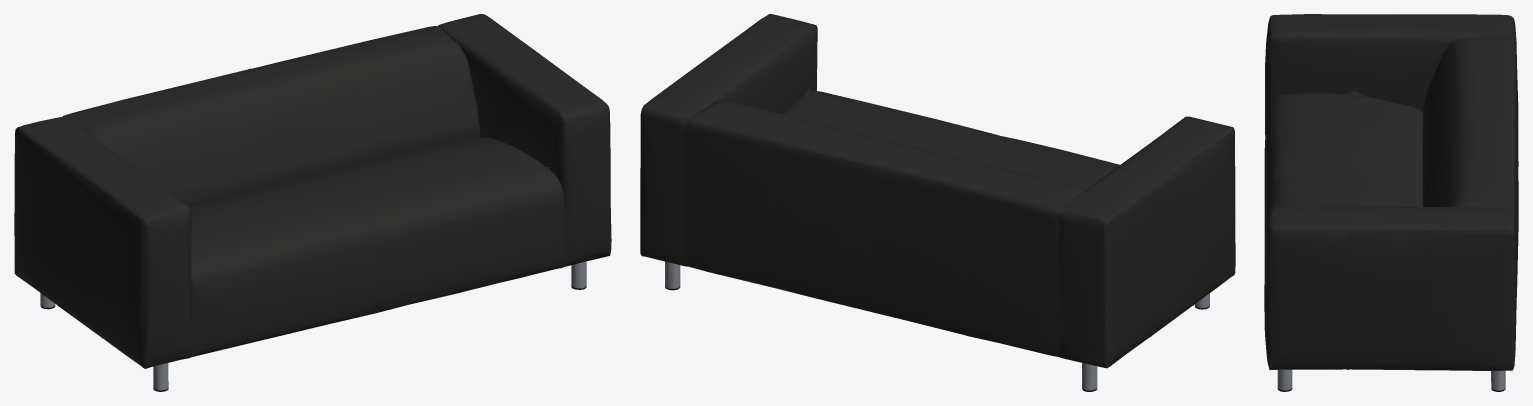
Rendered from klippan_sofa_2_osobowa_40399314.glb.
3 views of the same model, side by side, from view 1: azimuth 30°, elevation 25°; view 2: azimuth 150°, elevation 25°; view 3: azimuth 270°, elevation 25° (orthographic). The views are drawn at different scales.
Parts seen in each view (by area): view 1: klippan_sofa_2_osobowa_40399314; view 2: klippan_sofa_2_osobowa_40399314; view 3: klippan_sofa_2_osobowa_40399314.
Boxes of the visible parts, <box> form: klippan_sofa_2_osobowa_40399314: <box>14,14,611,391</box>; klippan_sofa_2_osobowa_40399314: <box>640,14,1235,391</box>; klippan_sofa_2_osobowa_40399314: <box>1264,14,1518,391</box>.
Size of the model in its own units: 1.8 by 0.6682 by 0.8824.
1 material, 1 textured.
